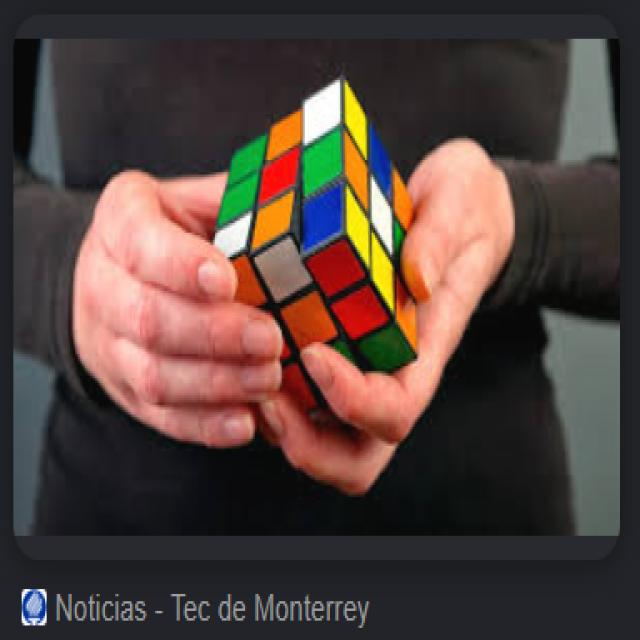Cubo-No-resuelto: (210, 78, 417, 410)
